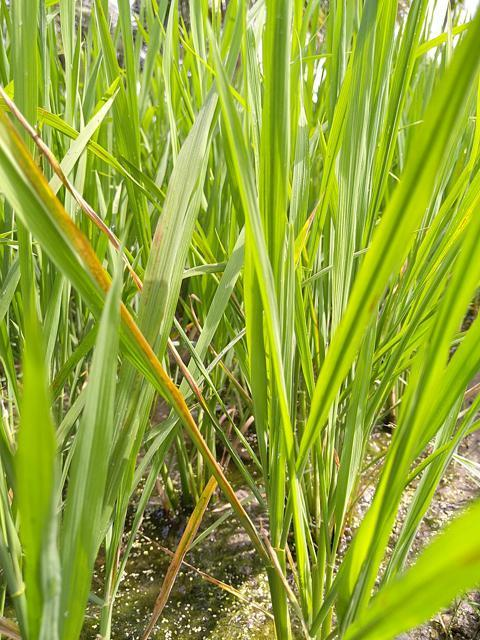Leaf Streak: (122, 305, 246, 520), (1, 84, 121, 254), (0, 119, 112, 295), (168, 340, 218, 426), (122, 254, 143, 291)
